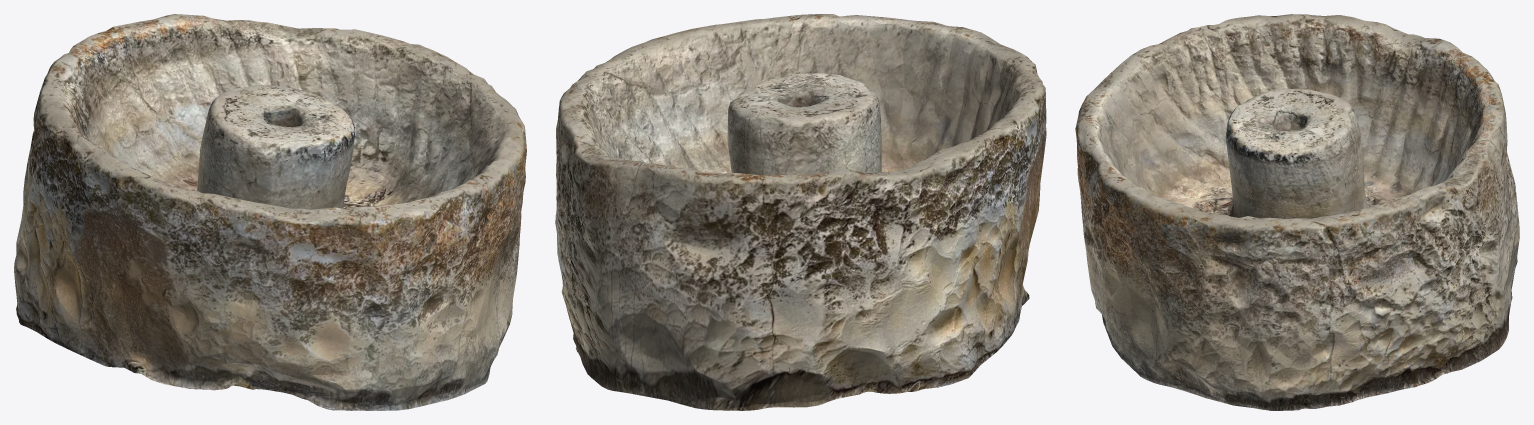
Rendered from zaghouan-stone-basin.glb.
The picture shows the model from 3 angles, left to right: view 1: azimuth 30°, elevation 25°; view 2: azimuth 150°, elevation 25°; view 3: azimuth 270°, elevation 25°; orthographic projection. The views are drawn at different scales.
Parts seen in each view (by area): view 1: Object_2; view 2: Object_2; view 3: Object_2.
Part boxes in pixels (box(x1,y1,x2,y2)): Object_2: box(14, 14, 526, 410); Object_2: box(555, 14, 1046, 410); Object_2: box(1075, 14, 1519, 410).
Bounding box in the file's own units: 1.11 × 0.6447 × 1.13.
Materials: 1 (1 with a texture image).
